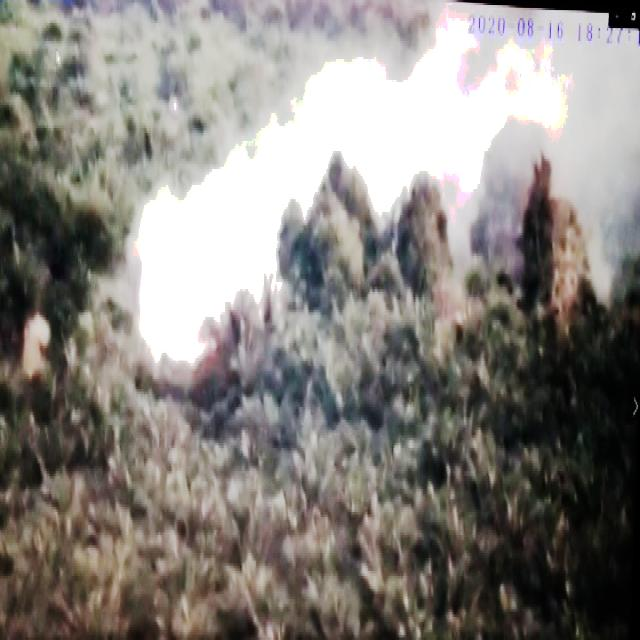asap: (125, 44, 640, 392)
